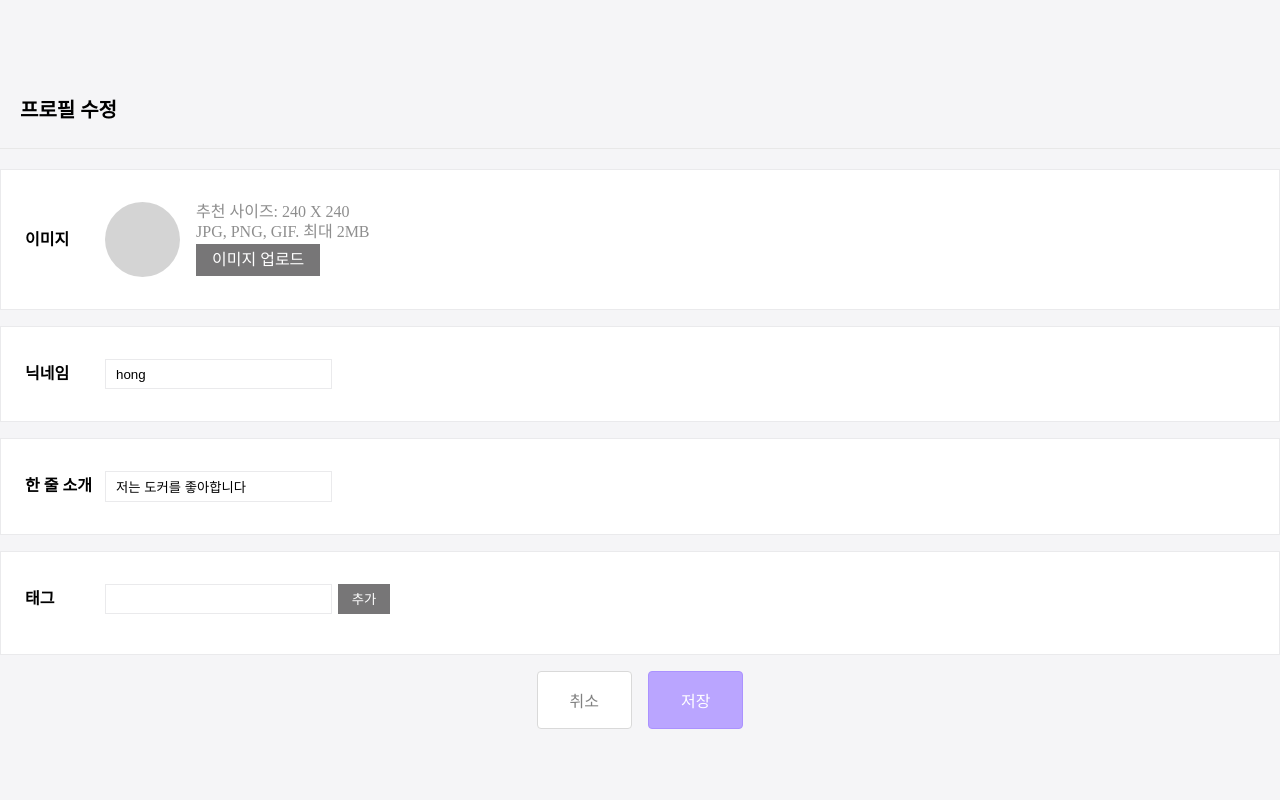
Test: ProfileEditForm › with empty display name › renders error message
This screenshot has width=1280, height=800.
Clear the field labelled "닉네임". click: x=218, y=374
box: x1=105 y1=359 x2=332 y2=389
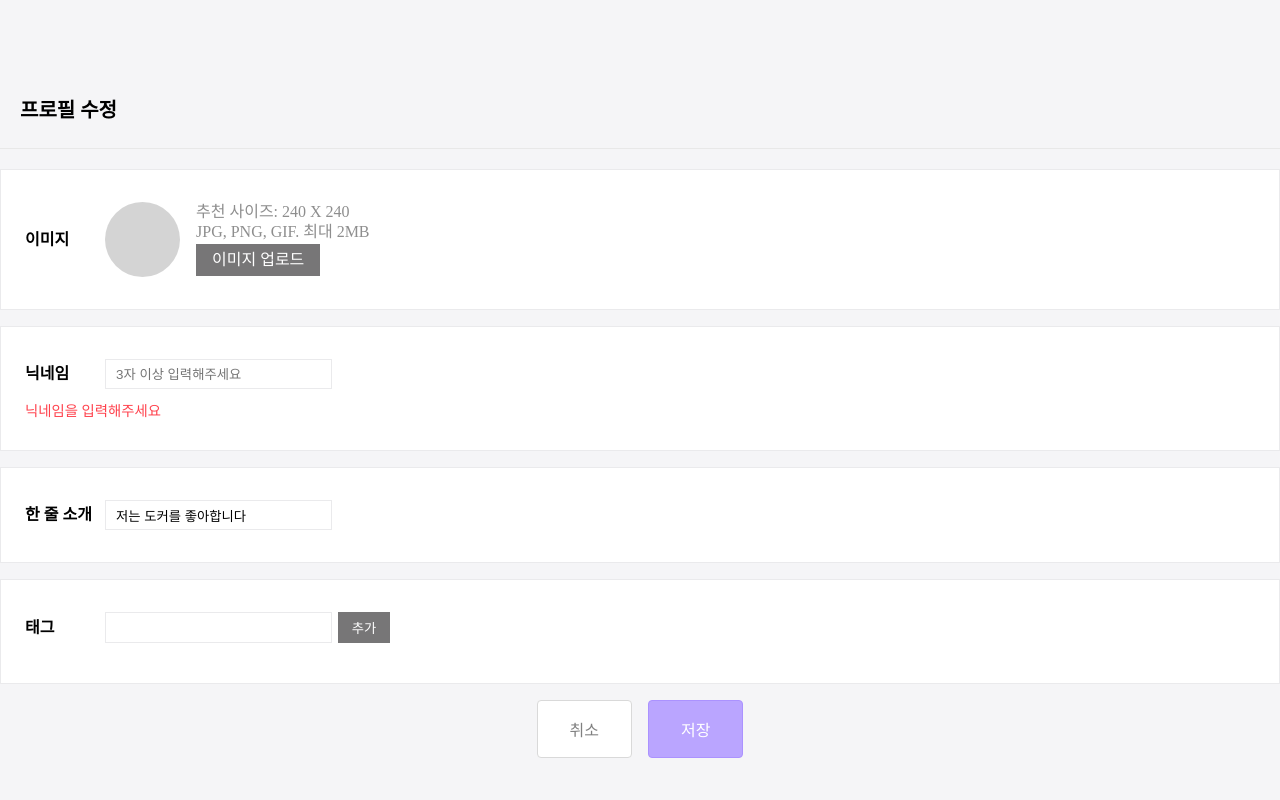
Expected: the text "닉네임을 입력해주세요" is shown, x1=25 y1=403 x2=161 y2=419
